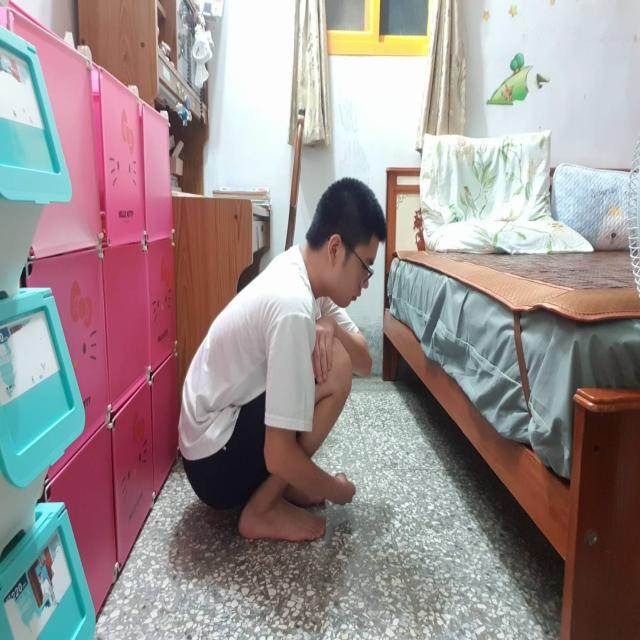sit: (172, 159, 400, 562)
